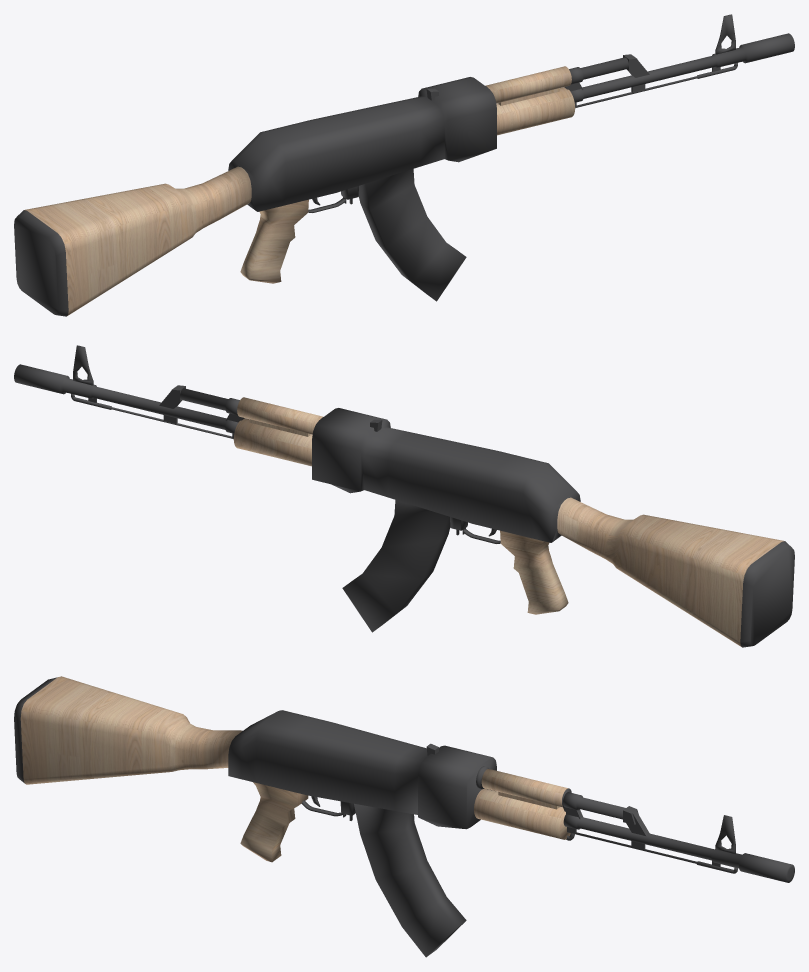
3 views of the same model, one above another, from view 1: azimuth 30°, elevation 25°; view 2: azimuth 150°, elevation 25°; view 3: azimuth 330°, elevation 25° (orthographic).
Visible parts, largest first — view 1: Cube; view 2: Cube; view 3: Cube.
Part boxes in pixels (left/top/right/bottom): Cube: left=14, top=14, right=794, bottom=316; Cube: left=14, top=345, right=794, bottom=647; Cube: left=14, top=676, right=794, bottom=957.
Size of the model in its own units: 4.72 by 1.25 by 0.4873.
2 materials, 1 textured.
